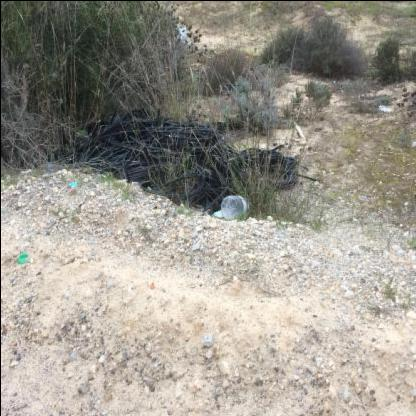Bottle: (16, 252, 28, 263), (69, 181, 77, 186)
Bottle cap: (221, 194, 249, 219)
Unlabeled litter: (212, 210, 222, 218)
